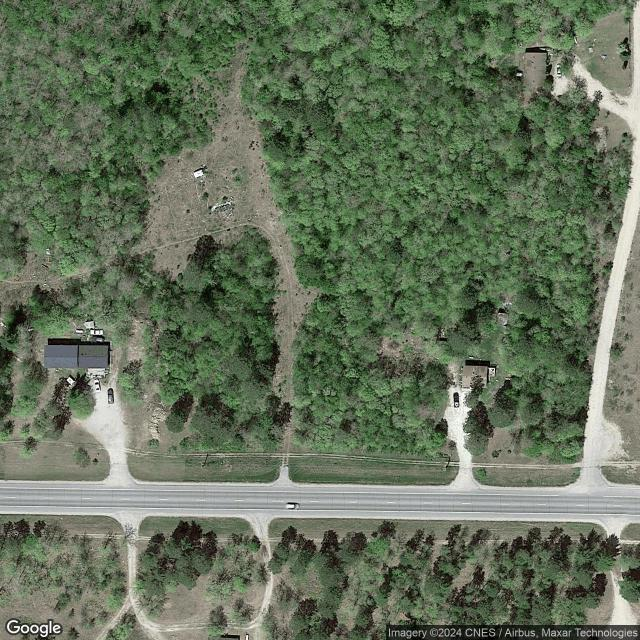Propane: (75, 328, 84, 333), (245, 633, 249, 640), (468, 356, 474, 359)
